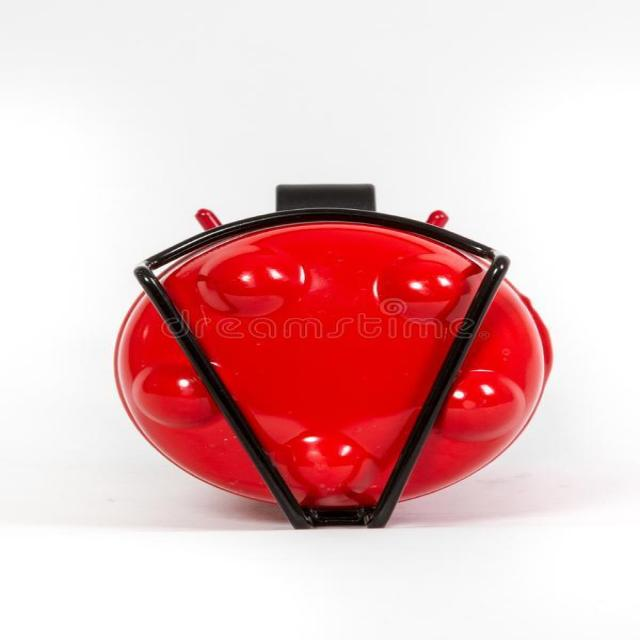fire_extinguisher: (102, 178, 558, 535)
